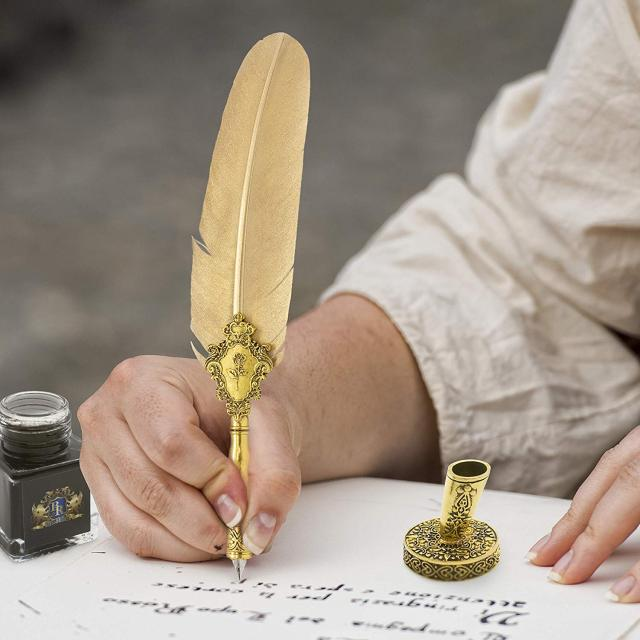pen: (195, 27, 304, 584)
